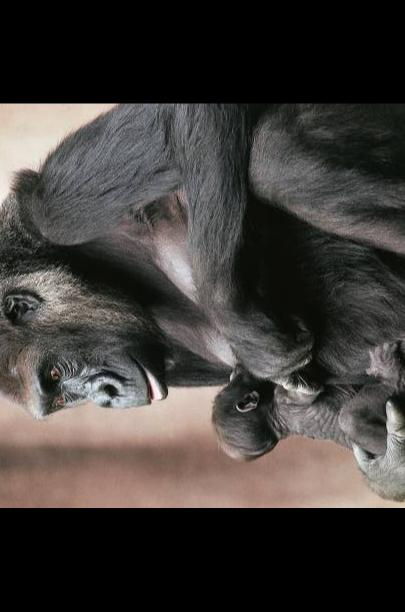gorille_Autres: (0, 103, 405, 458)
